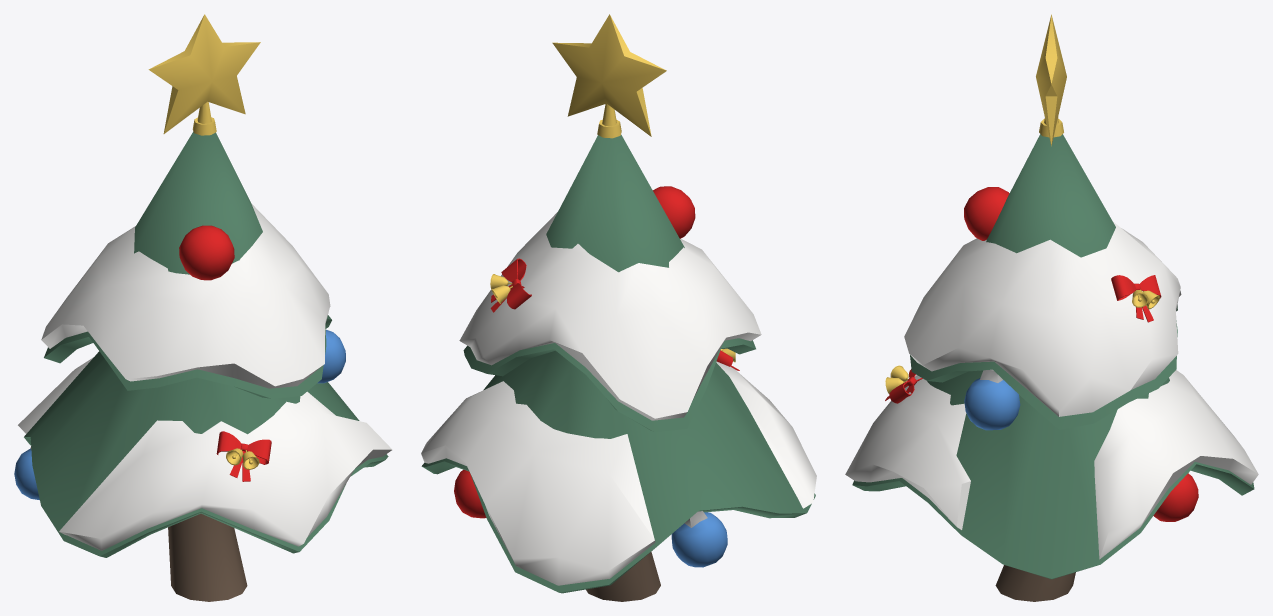
The model's file is Christmas_Tree_1.glb.
3 views of the same model, side by side, from view 1: azimuth 30°, elevation 25°; view 2: azimuth 150°, elevation 25°; view 3: azimuth 270°, elevation 25° (orthographic). The views are drawn at different scales.
Parts seen in each view (by area): view 1: Christmas_Tree_1; view 2: Christmas_Tree_1; view 3: Christmas_Tree_1.
Part boxes in pixels (<box>): Christmas_Tree_1: <box>14,14,392,601</box>; Christmas_Tree_1: <box>421,14,816,601</box>; Christmas_Tree_1: <box>845,14,1258,601</box>.
Size of the model in its own units: 1.87 by 2.95 by 1.93.
1 material, 1 textured.
